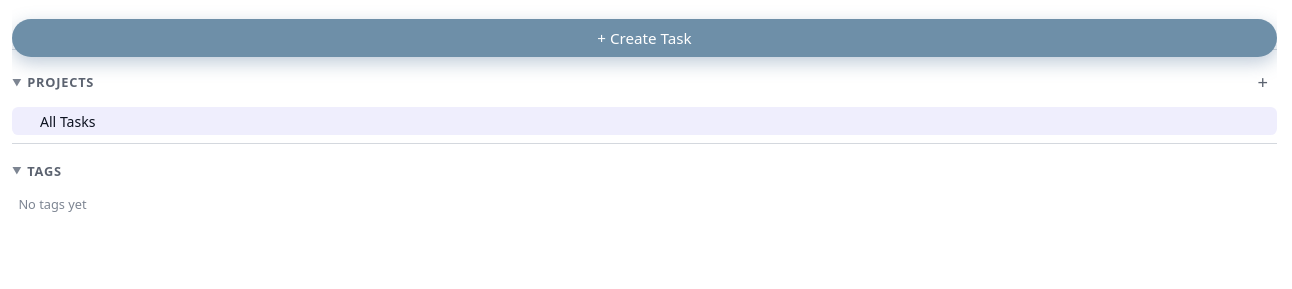
Scenario: ProjectSidebar smoke test › rejects creating a project with a duplicate name (case-insensitive)
Click the button named "Create project" at (1263, 82), box [1248,67,1277,97]
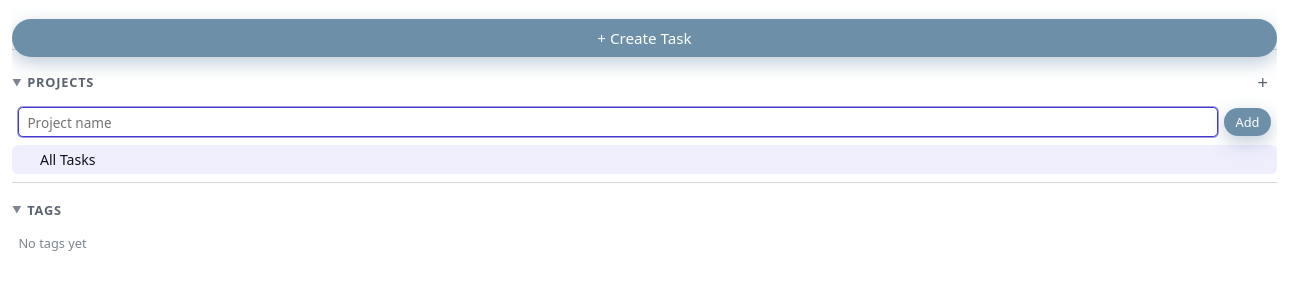
Type "work" into the field with placeholder "Project name" at (618, 122), box [18,107,1218,137]
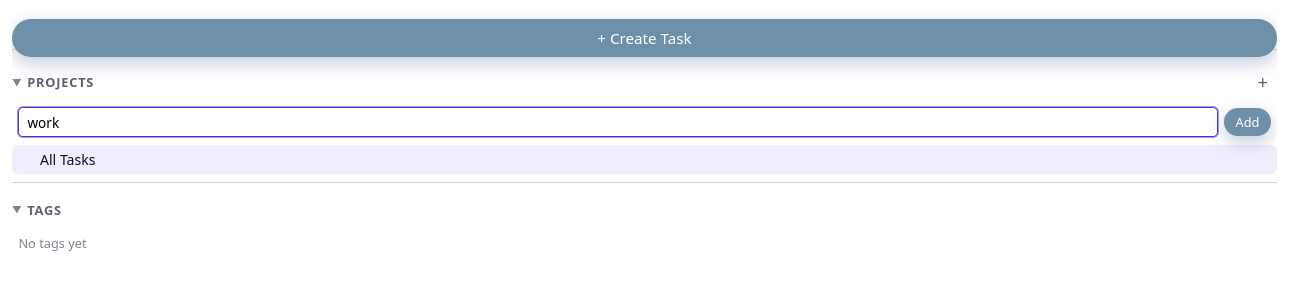
Click the button "Add" at (1247, 122), box [1224,108,1271,136]
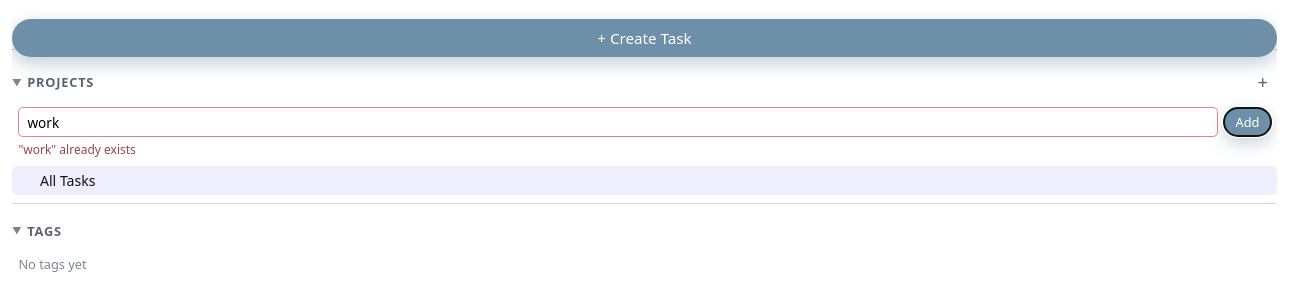
Check: the text "\"work\" already exists" is shown, box [18,141,136,158]
